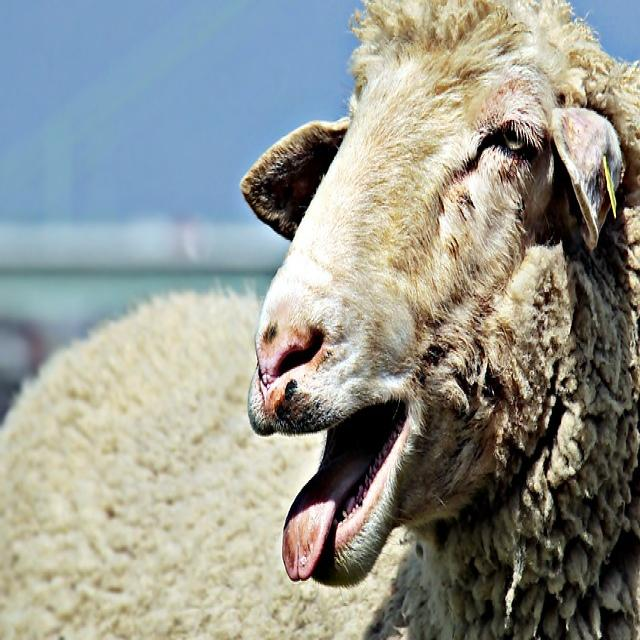goat: (240, 0, 640, 640)
